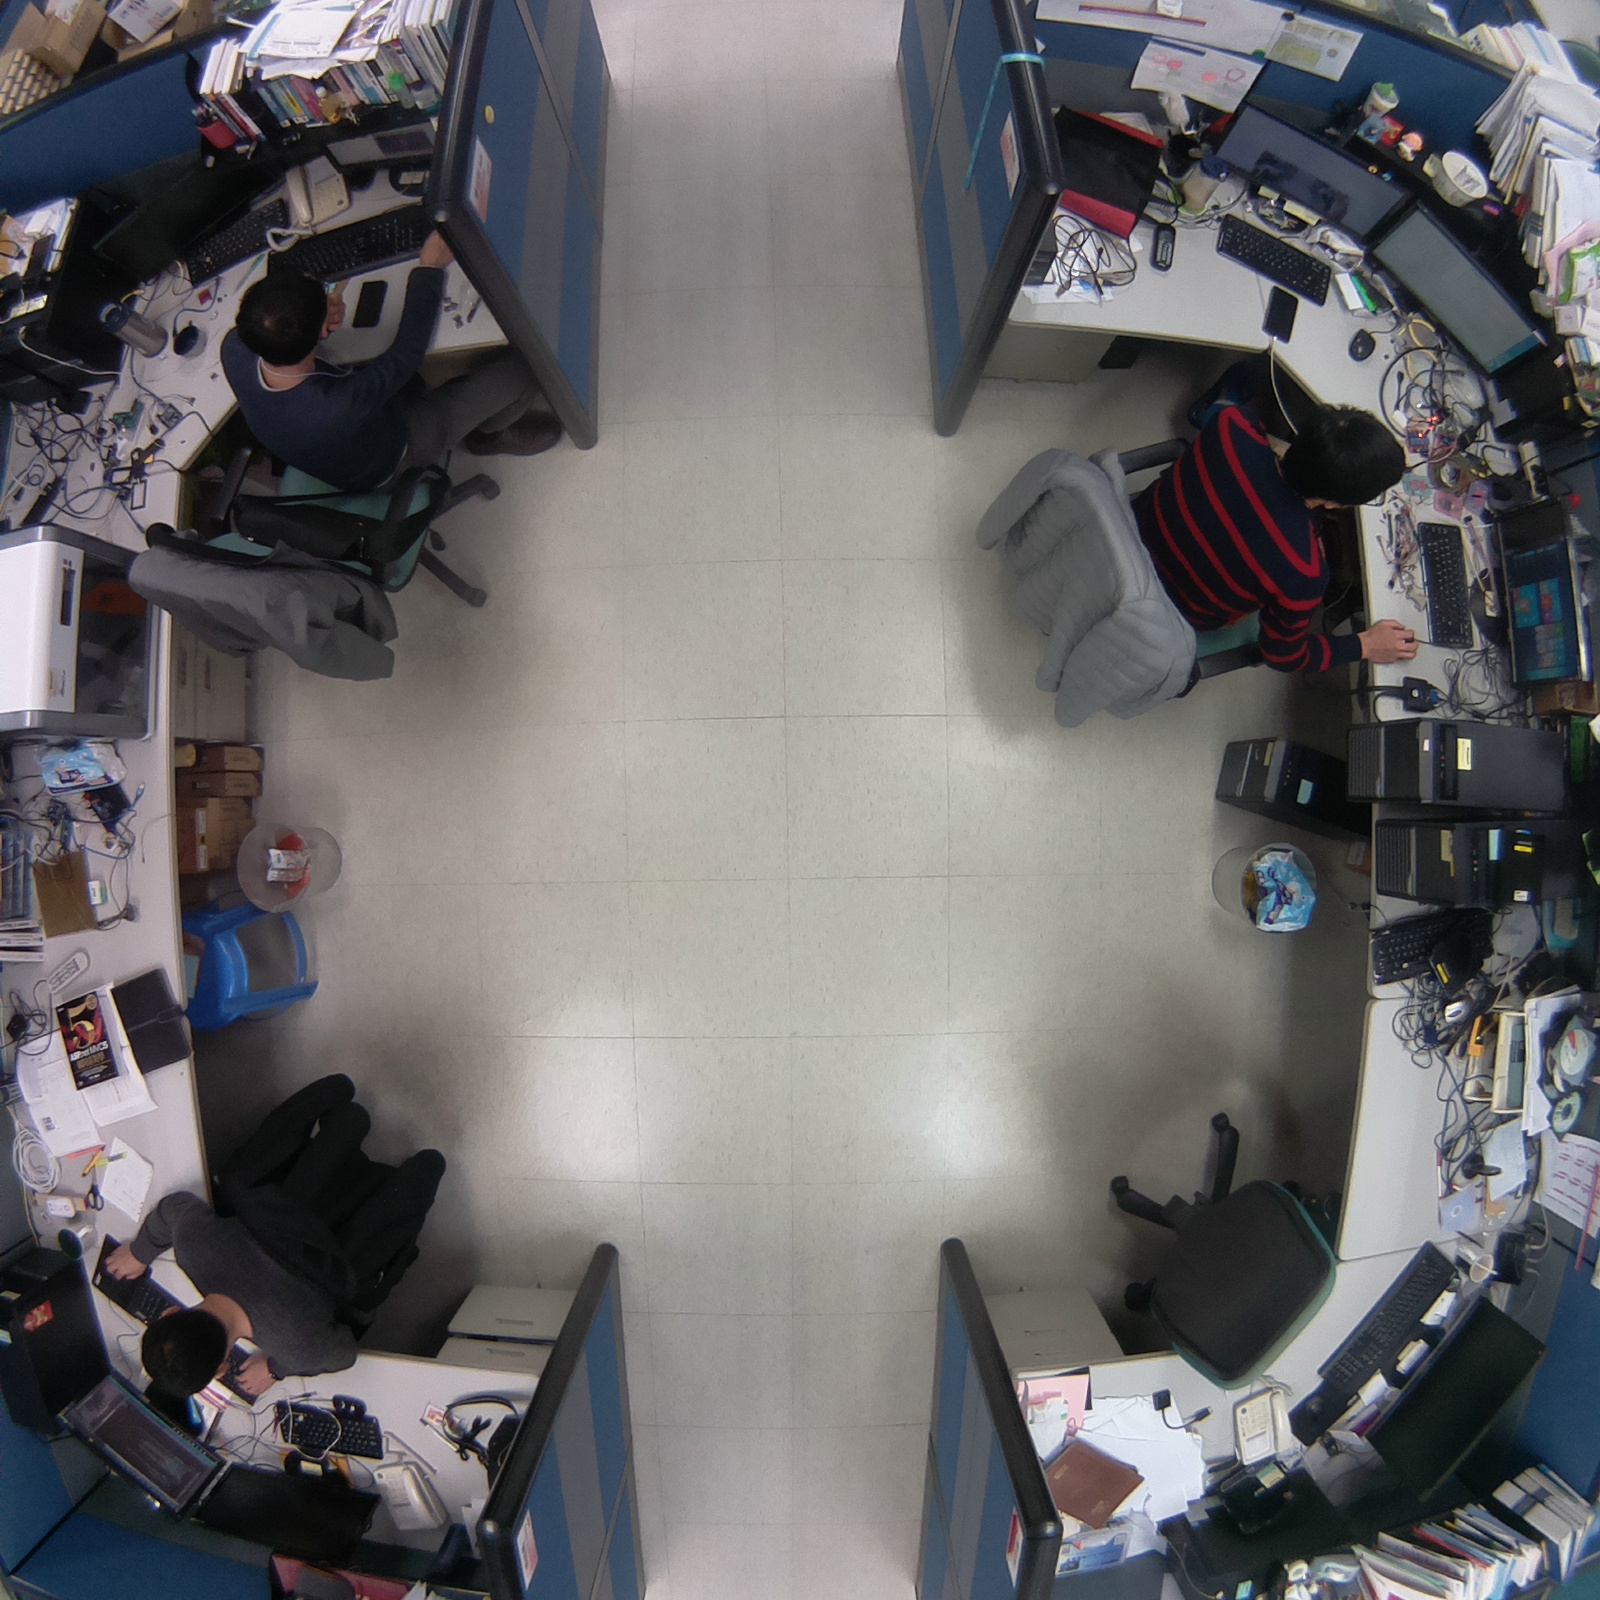chair: (1099, 1099, 1353, 1404)
head: (1272, 400, 1417, 519), (221, 265, 342, 365), (134, 1297, 236, 1408)
sitting: (119, 201, 570, 699), (958, 370, 1429, 742), (99, 1029, 473, 1417)
